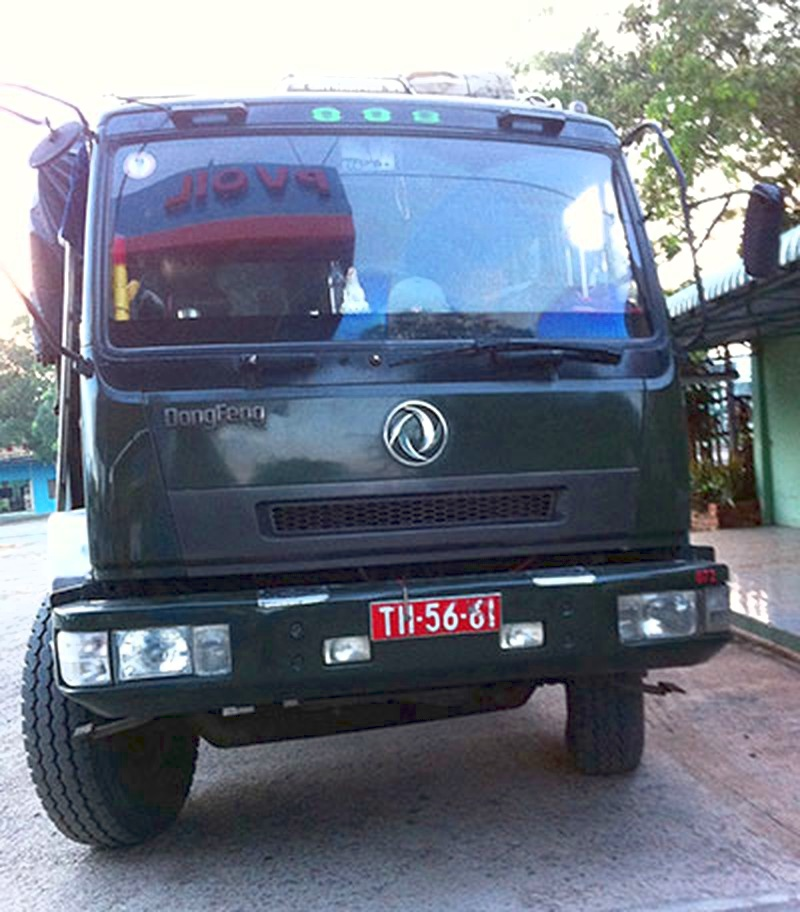plate: (367, 592, 508, 637)
